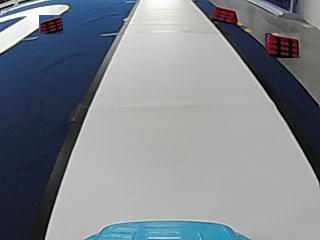bomb: (212, 6, 238, 25)
